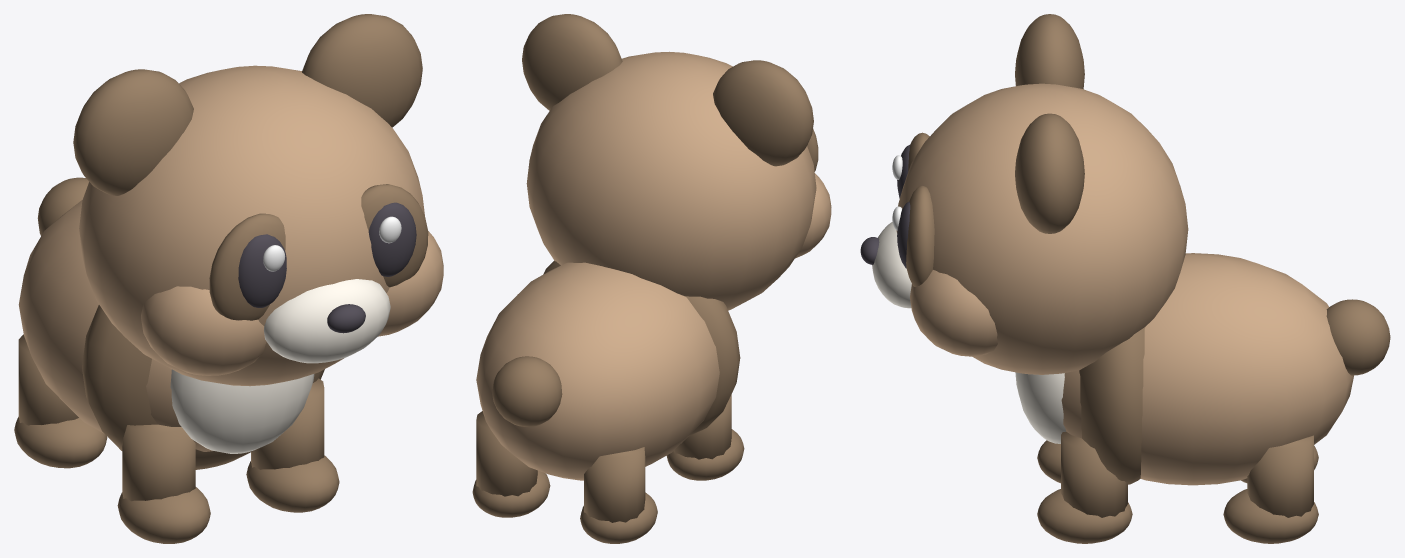
The model's file is hewan_panda.fbx.
3 views of the same model, side by side, from view 1: azimuth 30°, elevation 25°; view 2: azimuth 150°, elevation 25°; view 3: azimuth 270°, elevation 25° (orthographic). The views are drawn at different scales.
Parts seen in each view (by area): view 1: PetBody, PetStripe, PetLight, PetDark, PetWhite; view 2: PetBody, PetStripe; view 3: PetBody, PetStripe, PetLight, PetDark.
Part boxes in pixels (bbox=[...]): PetBody: bbox=[18, 65, 443, 451]; PetStripe: bbox=[14, 14, 428, 543]; PetLight: bbox=[170, 279, 390, 453]; PetDark: bbox=[238, 202, 416, 333]; PetWhite: bbox=[263, 216, 401, 271]; PetBody: bbox=[476, 51, 831, 480]; PetStripe: bbox=[472, 14, 818, 543]; PetBody: bbox=[896, 83, 1353, 485]; PetStripe: bbox=[906, 14, 1390, 543]; PetLight: bbox=[872, 222, 1066, 443]; PetDark: bbox=[860, 145, 910, 268].
Bounding box in the file's own units: 2.73 × 3.73 × 4.06.
